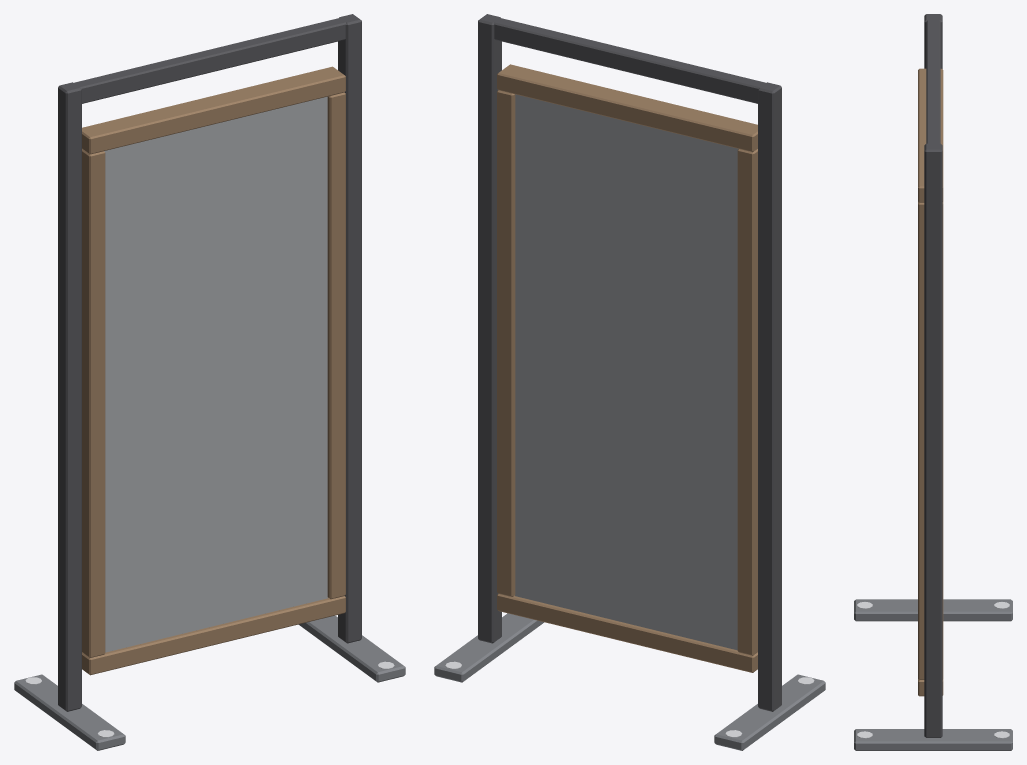
Rendered from music-recording-studio-and-instruments-isolation-scree-5622f1ef__33822.glb.
3 views of the same model, side by side, from view 1: azimuth 30°, elevation 25°; view 2: azimuth 150°, elevation 25°; view 3: azimuth 270°, elevation 25° (orthographic). The views are drawn at different scales.
Parts seen in each view (by area): view 1: isolation-screen; view 2: isolation-screen; view 3: isolation-screen.
Boxes of the visible parts, box(x1,y1,x2,y2) form: isolation-screen: box(14, 14, 405, 750); isolation-screen: box(434, 14, 825, 750); isolation-screen: box(854, 14, 1012, 750).
Size of the model in its own units: 0.94 by 1.83 by 0.44.
